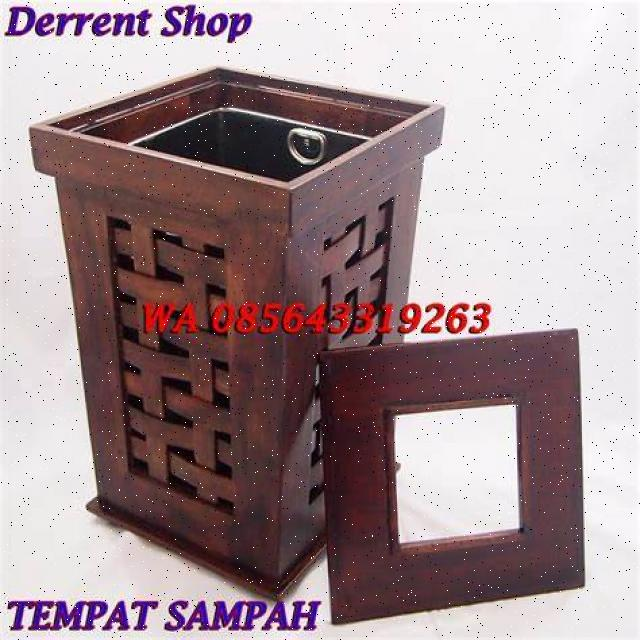garbage container: (14, 61, 575, 578)
